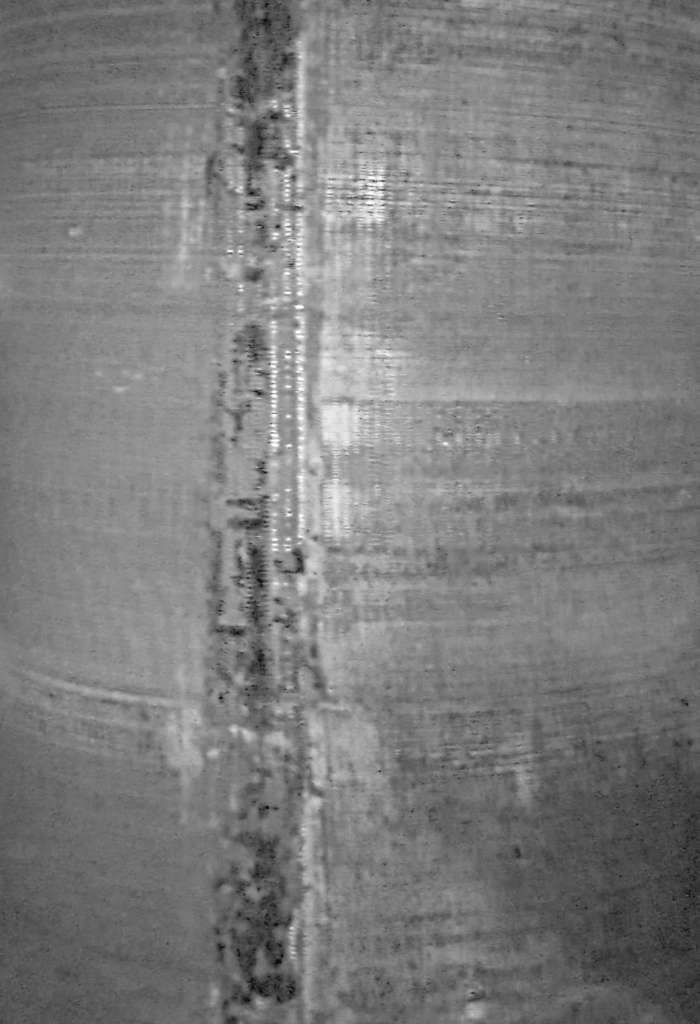splice: (195, 3, 327, 1024)
